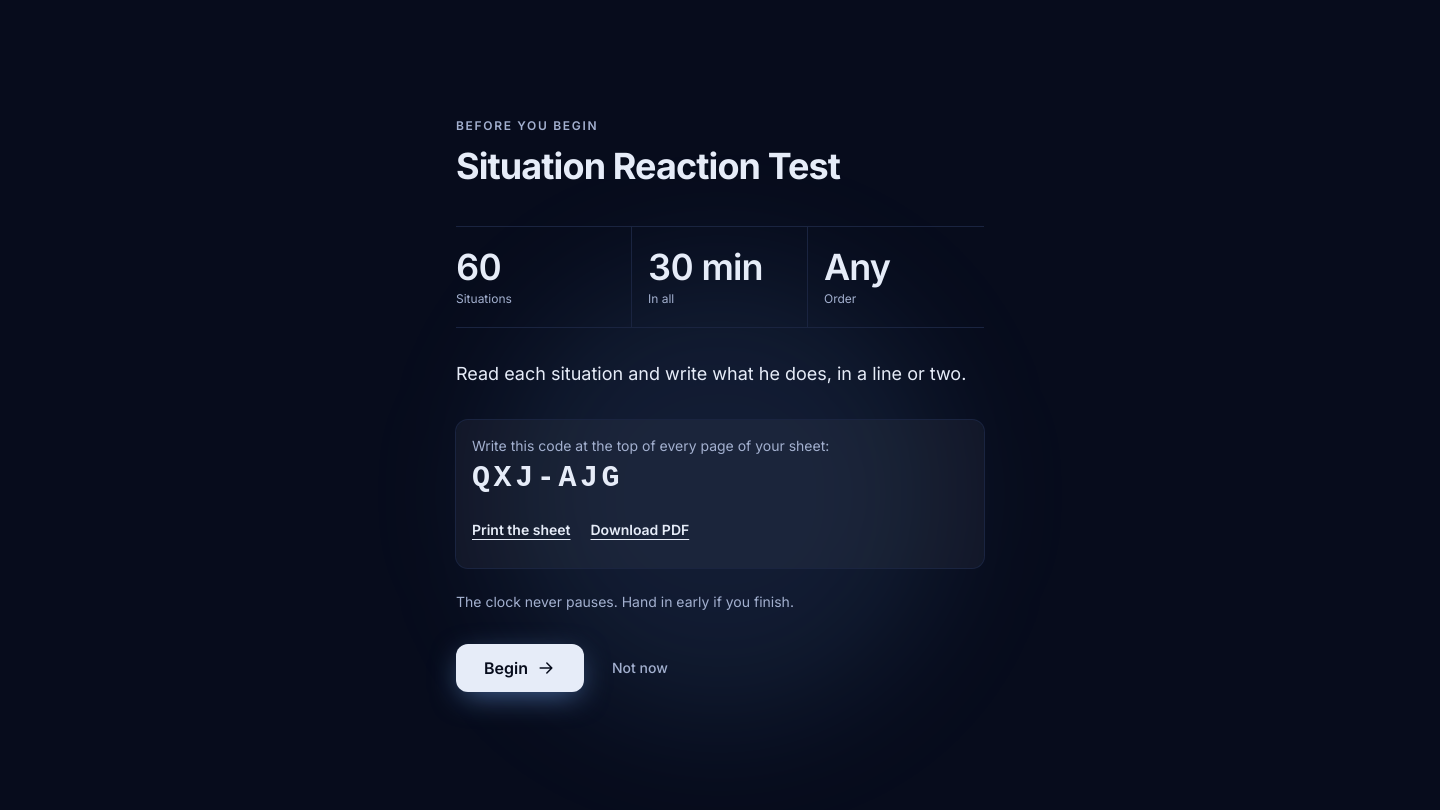
Scenario: PaperBookletRunner › starts a paper attempt at this set and shows every situation, numbered, with the clock
Click the button "Begin" at (520, 668), box [456,644,584,692]
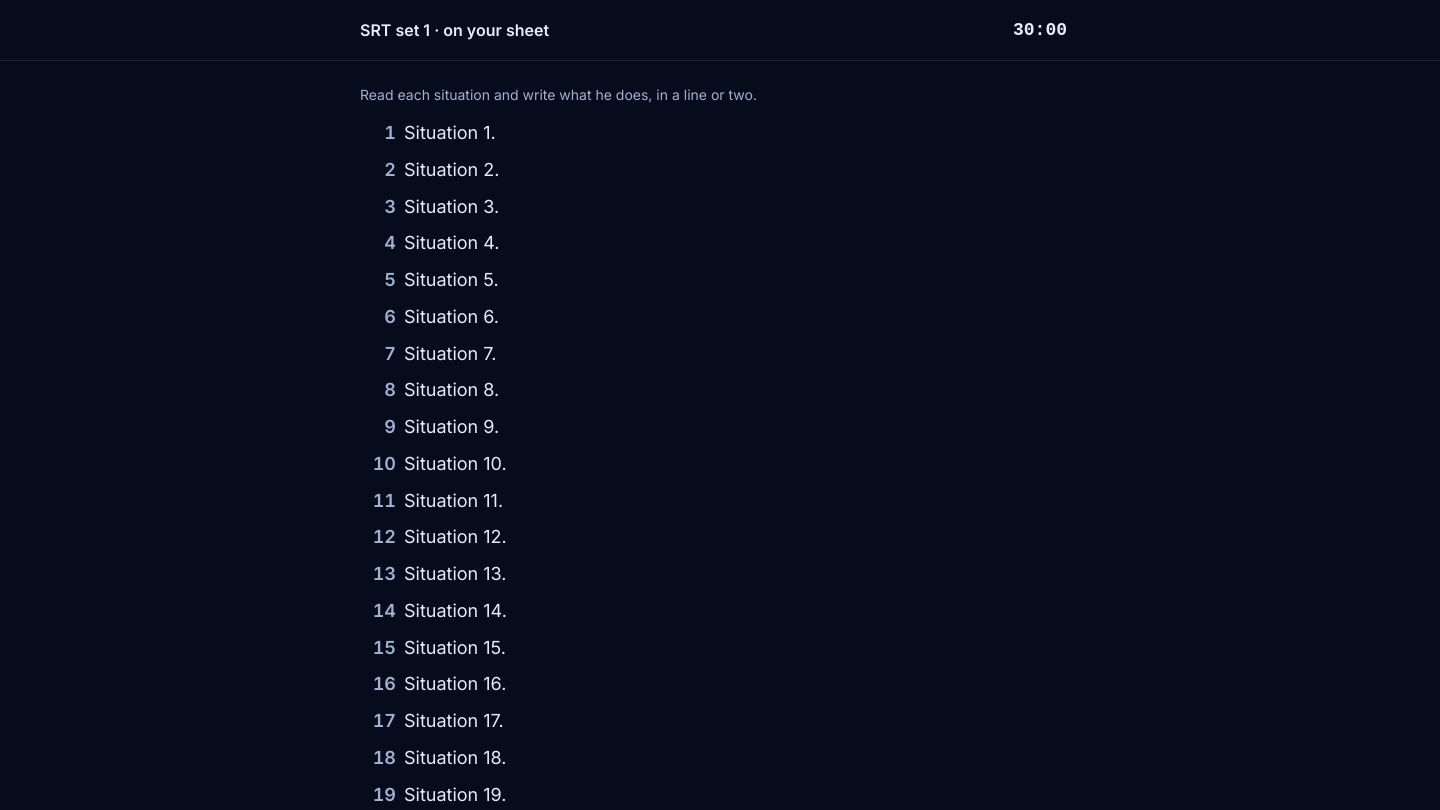
Result: the number of list items is 60
Result: the text "30:00" is shown at [1013,20,1067,40]
